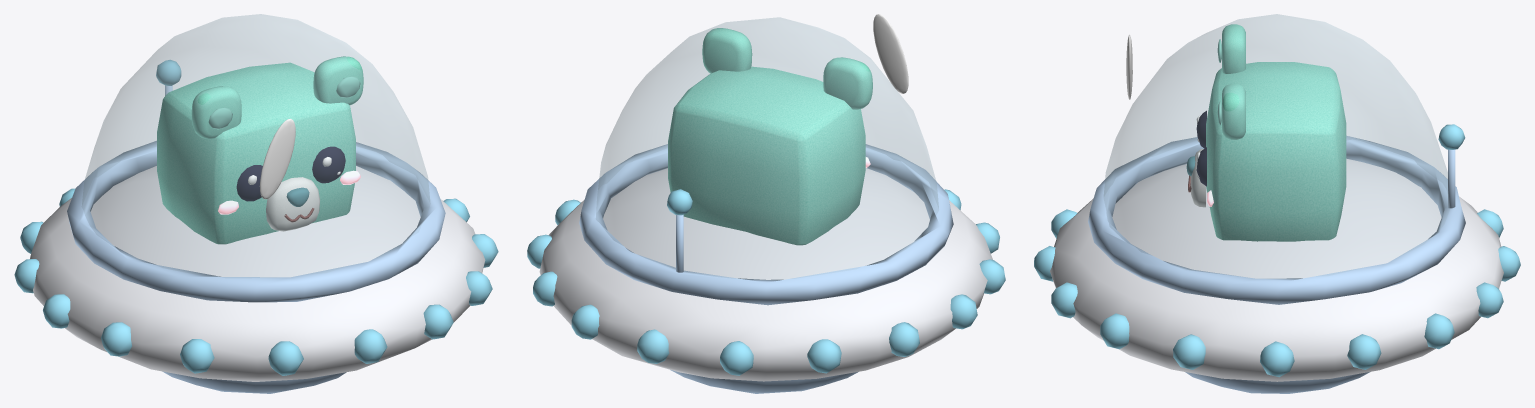
The model's file is Excl_UFO.fbx.
3 renders of one model, left to right at view 1: azimuth 30°, elevation 25°; view 2: azimuth 150°, elevation 25°; view 3: azimuth 270°, elevation 25°, orthographic.
Parts seen in each view (by area): view 1: Excl_UFO_acc_dome, Excl_UFO_acc_disc, Excl_UFO_Baer_body, Excl_UFO_acc_domering, Excl_UFO_Baer_ears, Excl_UFO_Baer_muzzle, Excl_UFO_acc_dome_glanz, Excl_UFO_acc_bowl, Excl_UFO_Baer_eyes, Excl_UFO_acc_rimlight11, Excl_UFO_acc_rimlight10, Excl_UFO_acc_rimlight12 (+9 smaller); view 2: Excl_UFO_acc_dome, Excl_UFO_acc_disc, Excl_UFO_Baer_body, Excl_UFO_acc_domering, Excl_UFO_Baer_ears, Excl_UFO_acc_bowl, Excl_UFO_acc_dome_glanz, Excl_UFO_acc_rimlight6, Excl_UFO_acc_rimlight5, Excl_UFO_acc_rimlight4, Excl_UFO_acc_rimlight7, Excl_UFO_acc_rimlight3 (+7 smaller); view 3: Excl_UFO_acc_dome, Excl_UFO_acc_disc, Excl_UFO_Baer_body, Excl_UFO_acc_domering, Excl_UFO_Baer_ears, Excl_UFO_acc_bowl, Excl_UFO_acc_rimlight0, Excl_UFO_acc_rimlight1, Excl_UFO_acc_rimlight15, Excl_UFO_acc_rimlight14, Excl_UFO_acc_rimlight2, Excl_UFO_acc_rimlight3 (+7 smaller).
Part boxes in pixels (box(x1,y1,x2,y2)): Excl_UFO_acc_dome: box(82, 14, 430, 277); Excl_UFO_acc_disc: box(30, 166, 485, 381); Excl_UFO_Baer_body: box(157, 62, 355, 244); Excl_UFO_acc_domering: box(67, 141, 445, 302); Excl_UFO_Baer_ears: box(191, 56, 363, 138); Excl_UFO_Baer_muzzle: box(266, 177, 319, 231); Excl_UFO_acc_dome_glanz: box(259, 118, 295, 199); Excl_UFO_acc_bowl: box(162, 371, 346, 393); Excl_UFO_Baer_eyes: box(236, 146, 345, 201); Excl_UFO_acc_rimlight11: box(268, 341, 303, 375); Excl_UFO_acc_rimlight10: box(180, 339, 214, 373); Excl_UFO_acc_rimlight12: box(354, 329, 387, 363); Excl_UFO_acc_dome: box(596, 17, 938, 280); Excl_UFO_acc_disc: box(539, 168, 992, 381); Excl_UFO_Baer_body: box(668, 66, 865, 245); Excl_UFO_acc_domering: box(579, 144, 953, 305); Excl_UFO_Baer_ears: box(702, 28, 872, 109); Excl_UFO_acc_bowl: box(670, 370, 857, 393); Excl_UFO_acc_dome_glanz: box(873, 14, 908, 93); Excl_UFO_acc_rimlight6: box(807, 339, 841, 373); Excl_UFO_acc_rimlight5: box(720, 341, 753, 375); Excl_UFO_acc_rimlight4: box(637, 329, 669, 363); Excl_UFO_acc_rimlight7: box(889, 322, 919, 356); Excl_UFO_acc_rimlight3: box(571, 304, 599, 339); Excl_UFO_acc_dome: box(1104, 14, 1449, 278); Excl_UFO_acc_disc: box(1050, 158, 1503, 381); Excl_UFO_Baer_body: box(1206, 62, 1346, 241); Excl_UFO_acc_domering: box(1088, 136, 1465, 304); Excl_UFO_Baer_ears: box(1222, 24, 1245, 139); Excl_UFO_acc_bowl: box(1185, 372, 1369, 393); Excl_UFO_acc_rimlight0: box(1260, 341, 1294, 377); Excl_UFO_acc_rimlight1: box(1347, 334, 1381, 369); Excl_UFO_acc_rimlight15: box(1173, 334, 1205, 369); Excl_UFO_acc_rimlight14: box(1100, 313, 1129, 349); Excl_UFO_acc_rimlight2: box(1424, 313, 1454, 349); Excl_UFO_acc_rimlight3: box(1476, 282, 1503, 318).
Bounding box in the file's own units: 4.46 × 3.45 × 4.46.
15 materials, 4 textured.
